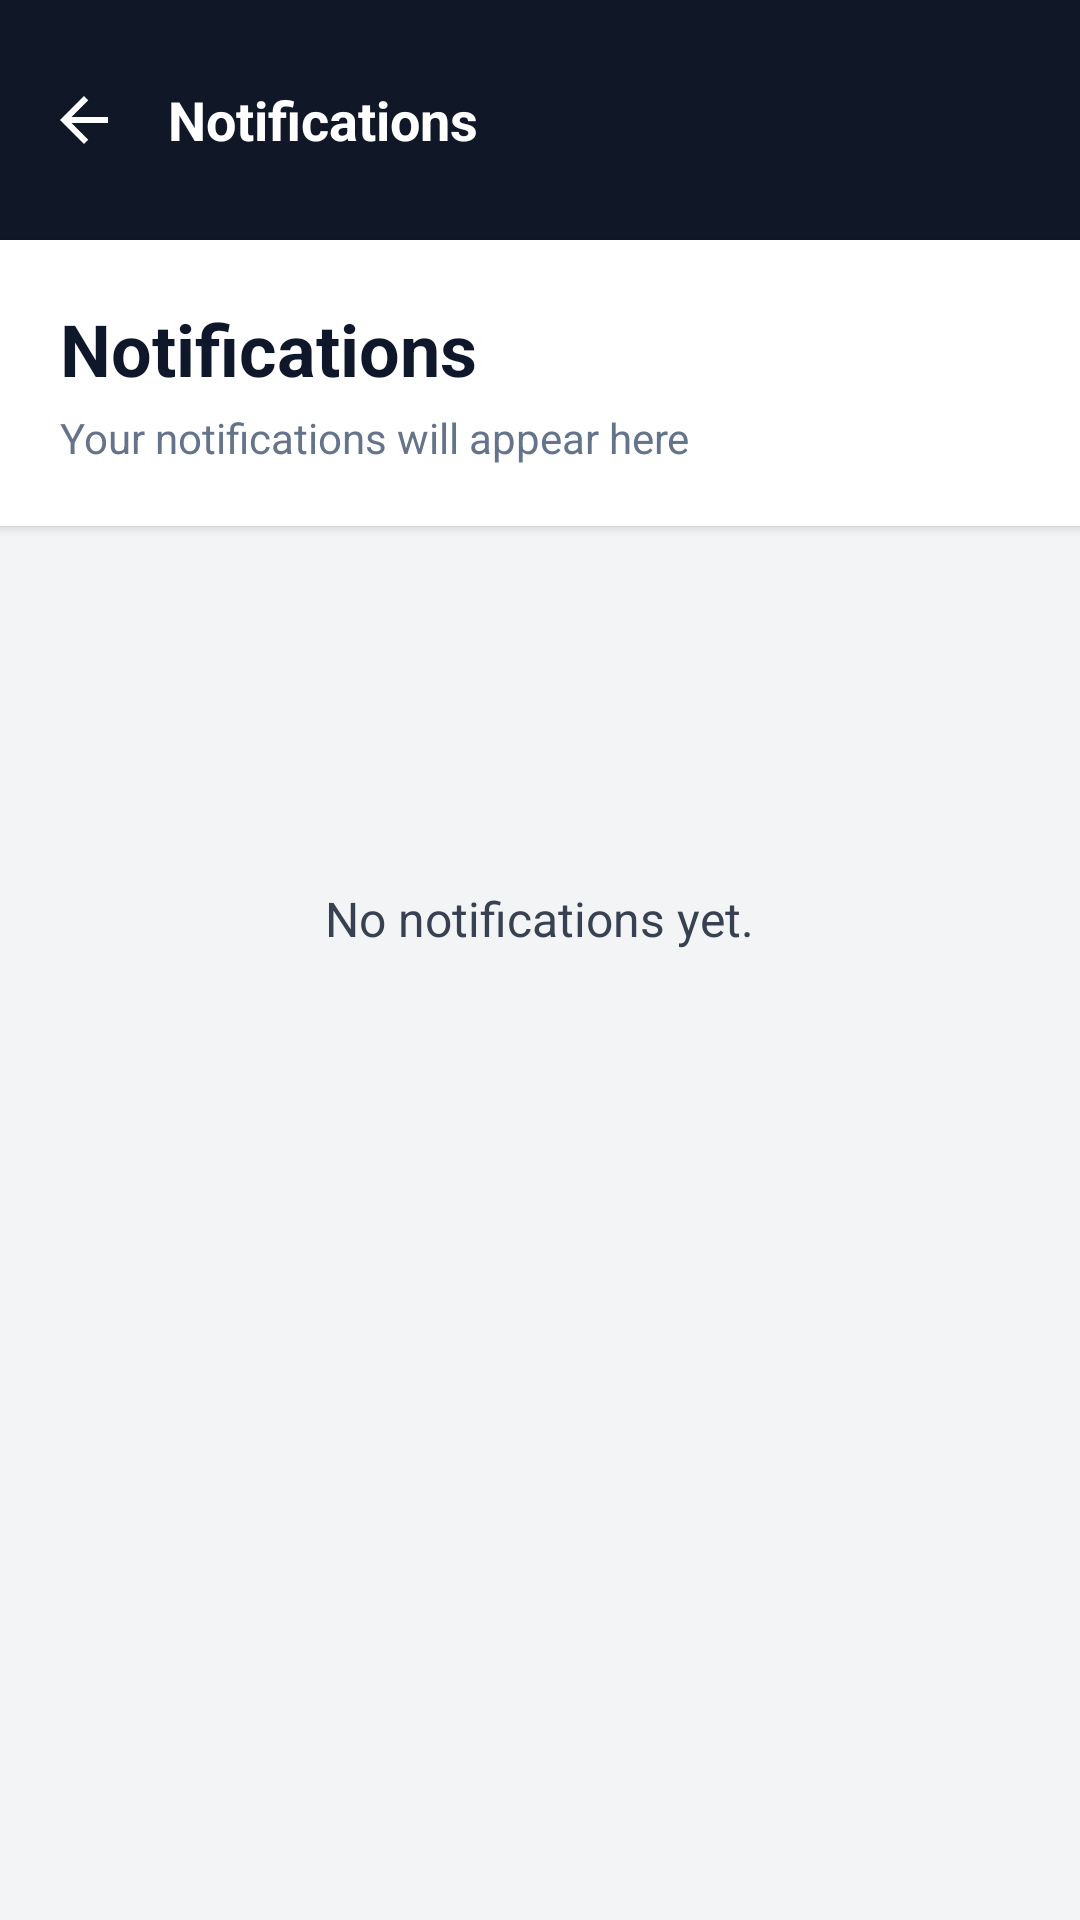

Icon bounding boxes for this 1080×1920 phone screenshot, format Rect(x1, y1, x2, y2):
Back: Rect(60, 96, 108, 144)
